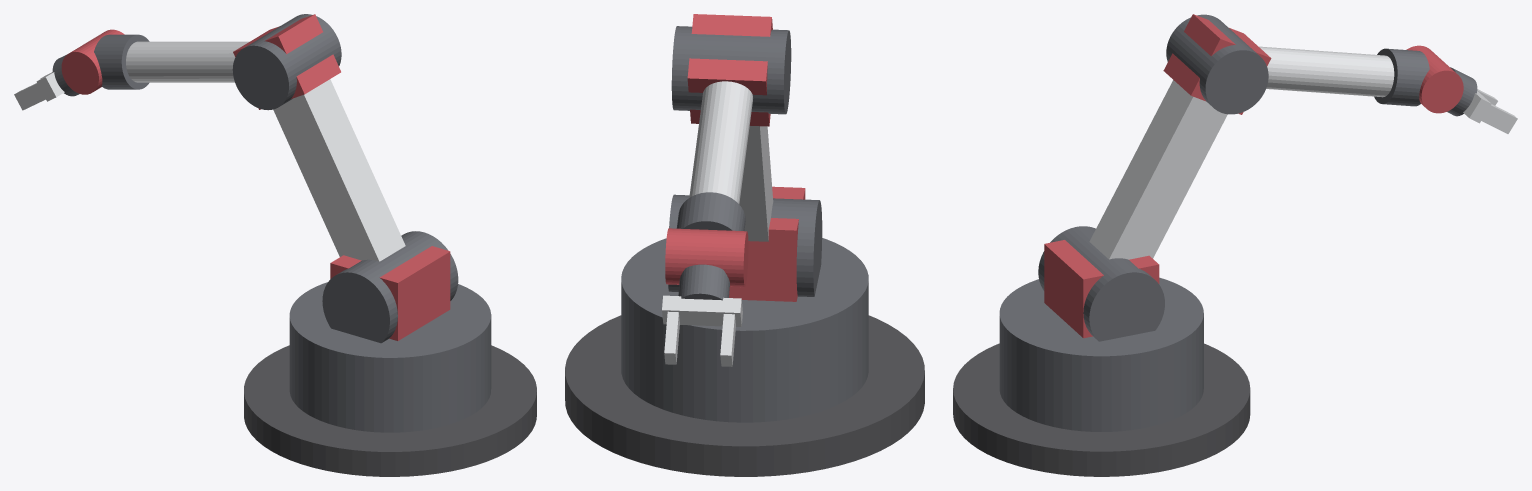
Rendered from robot-arm-placeholder.glb.
3 views of the same model, side by side, from view 1: azimuth 30°, elevation 25°; view 2: azimuth 150°, elevation 25°; view 3: azimuth 270°, elevation 25° (orthographic). The views are drawn at different scales.
Parts seen in each view (by area): view 1: j1_turntable, base_plate, upper_arm, j2_motor, j3_motor, shoulder_housing, forearm, elbow_housing, j4_roll, j5_pitch; view 2: j1_turntable, base_plate, j3_motor, forearm, elbow_housing, shoulder_housing, j5_pitch, j2_motor, upper_arm, j4_roll, gripper_palm, j6_roll (+2 smaller); view 3: j1_turntable, base_plate, upper_arm, j2_motor, j3_motor, forearm, shoulder_housing, elbow_housing, j4_roll, j5_pitch, finger_1, j6_roll.
Part boxes in pixels (left/top/right/bottom): j1_turntable: left=289, top=282, right=491, bottom=432; base_plate: left=244, top=345, right=536, bottom=476; upper_arm: left=273, top=79, right=405, bottom=261; j2_motor: left=322, top=231, right=458, bottom=343; j3_motor: left=232, top=14, right=341, bottom=110; shoulder_housing: left=330, top=246, right=450, bottom=340; forearm: left=126, top=41, right=249, bottom=82; elbow_housing: left=233, top=14, right=340, bottom=109; j4_roll: left=94, top=34, right=149, bottom=89; j5_pitch: left=61, top=29, right=124, bottom=94; j1_turntable: left=621, top=238, right=868, bottom=422; base_plate: left=565, top=315, right=924, bottom=476; j3_motor: left=671, top=26, right=791, bottom=114; forearm: left=689, top=81, right=752, bottom=203; elbow_housing: left=687, top=14, right=772, bottom=126; shoulder_housing: left=729, top=186, right=805, bottom=301; j5_pitch: left=665, top=228, right=748, bottom=287; j2_motor: left=668, top=194, right=822, bottom=296; upper_arm: left=739, top=126, right=773, bottom=241; j4_roll: left=676, top=192, right=745, bottom=230; gripper_palm: left=662, top=295, right=742, bottom=326; j6_roll: left=678, top=264, right=729, bottom=300; j1_turntable: left=999, top=277, right=1203, bottom=431; base_plate: left=953, top=343, right=1250, bottom=476; upper_arm: left=1089, top=80, right=1227, bottom=259; j2_motor: left=1038, top=226, right=1164, bottom=341; j3_motor: left=1166, top=14, right=1268, bottom=114; forearm: left=1259, top=46, right=1394, bottom=97; shoulder_housing: left=1044, top=240, right=1159, bottom=338; elbow_housing: left=1163, top=14, right=1271, bottom=114; j4_roll: left=1374, top=48, right=1429, bottom=106; j5_pitch: left=1406, top=45, right=1463, bottom=113; finger_1: left=1481, top=104, right=1517, bottom=133; j6_roll: left=1447, top=67, right=1477, bottom=116.
Size of the model in its own units: 0.7804 by 0.8719 by 1.22.
